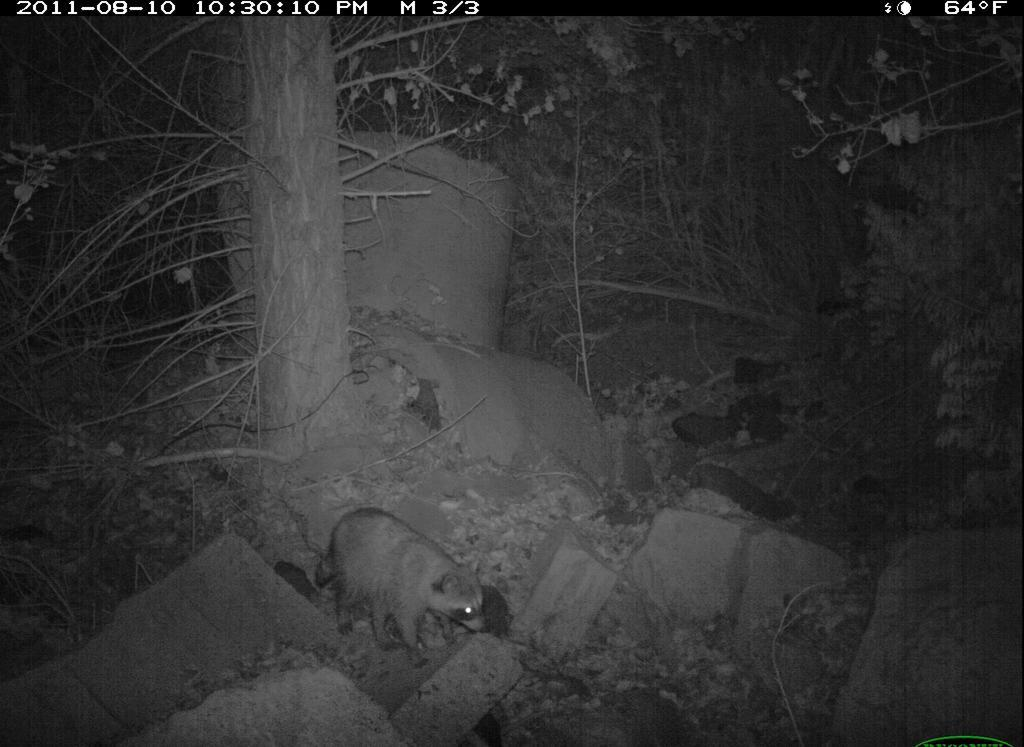raccoon: (306, 501, 506, 669)
